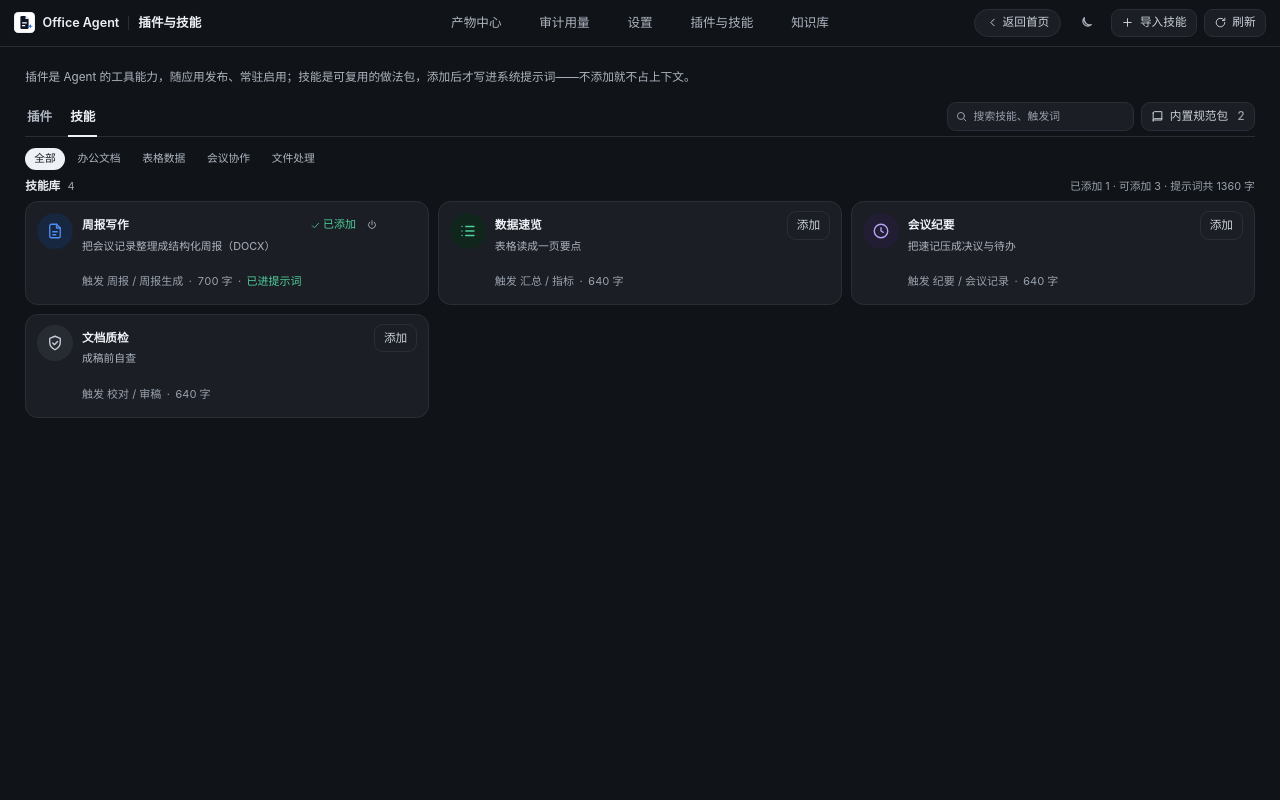
Test: SkillsPage › 规范包入口在顶部工具条上，点开是弹窗阅读器
expect the text "文档排版规范" is not shown: met
Click the button "内置规范包 2" at (1198, 116), box left=1141, top=102, right=1255, bottom=131
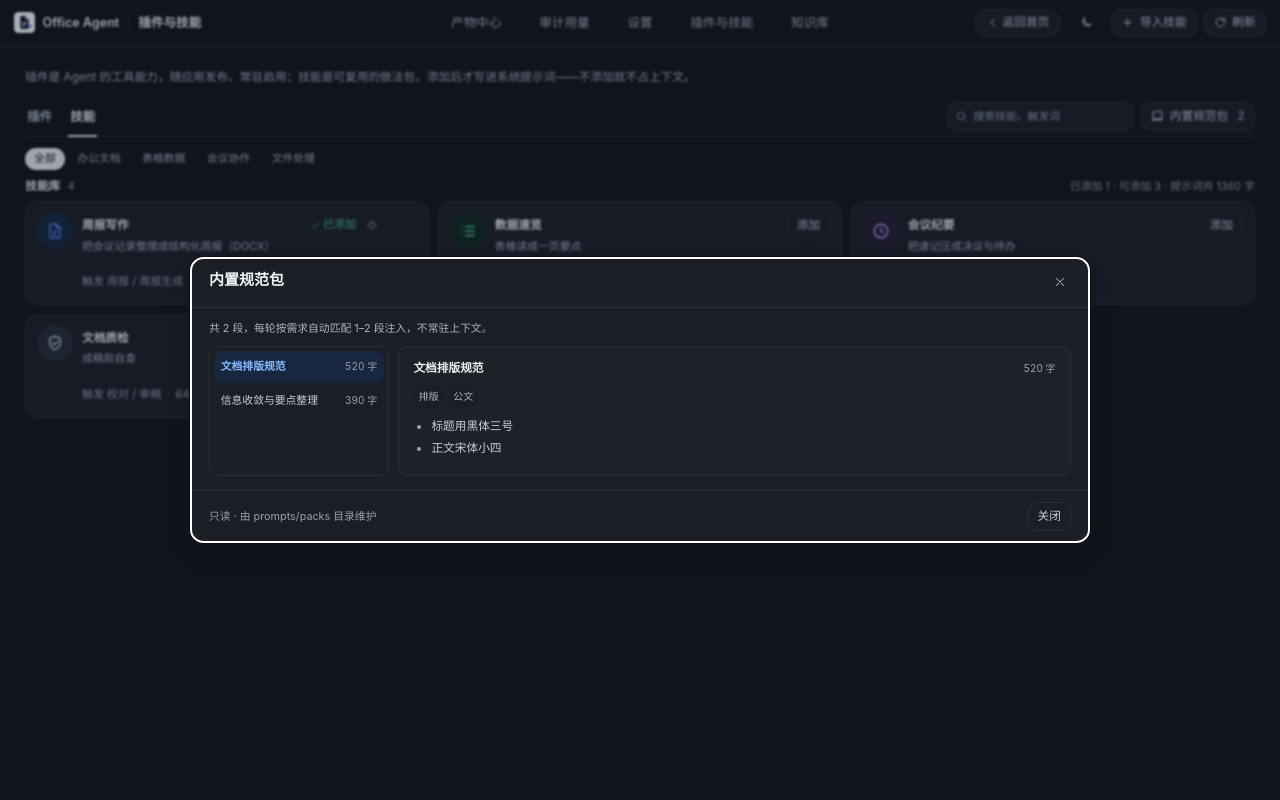
expect the list named "规范包目录" is shown: met, box left=209, top=346, right=389, bottom=476
expect the text "共 2 段，每轮按需求自动匹配 1–2 段注入，不常驻上下文。" is shown: met, box left=209, top=322, right=492, bottom=335
expect the text "标题用黑体三号" is shown: met, box left=431, top=419, right=513, bottom=433
